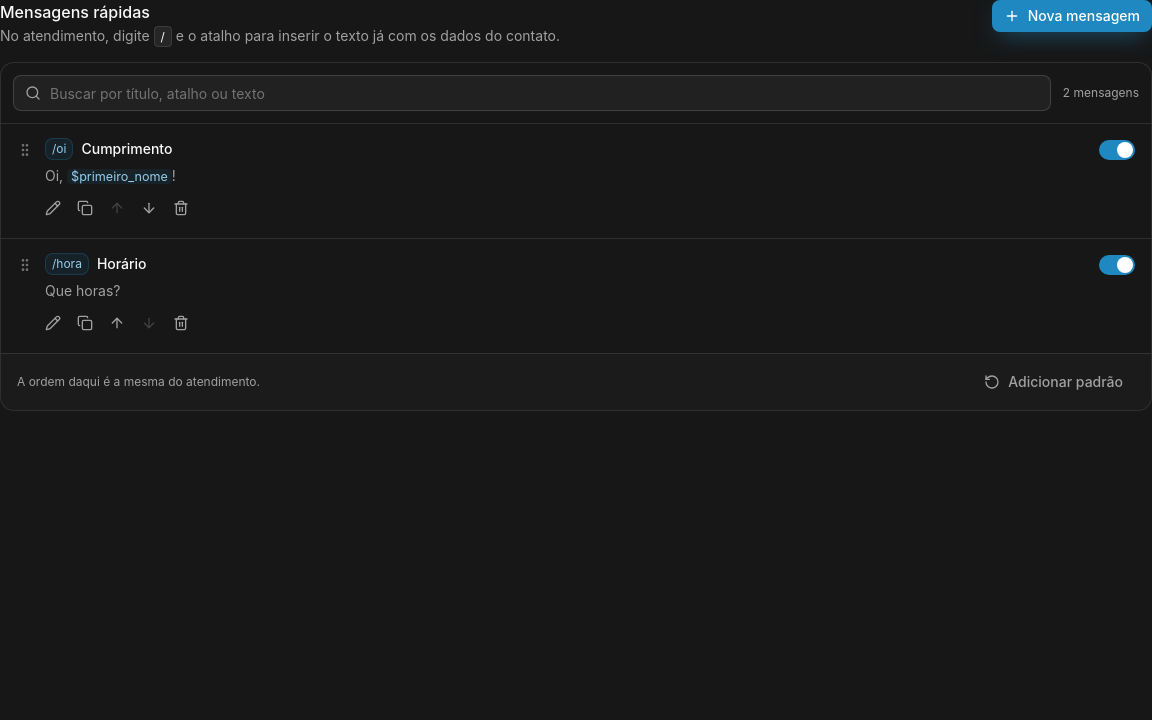
Test case: Mensagens rápidas › cria: sugere o atalho, mostra a prévia e salva
The image size is (1152, 720).
Click the button "Nova mensagem": (1072, 16) x1=992 y1=0 x2=1151 y2=32
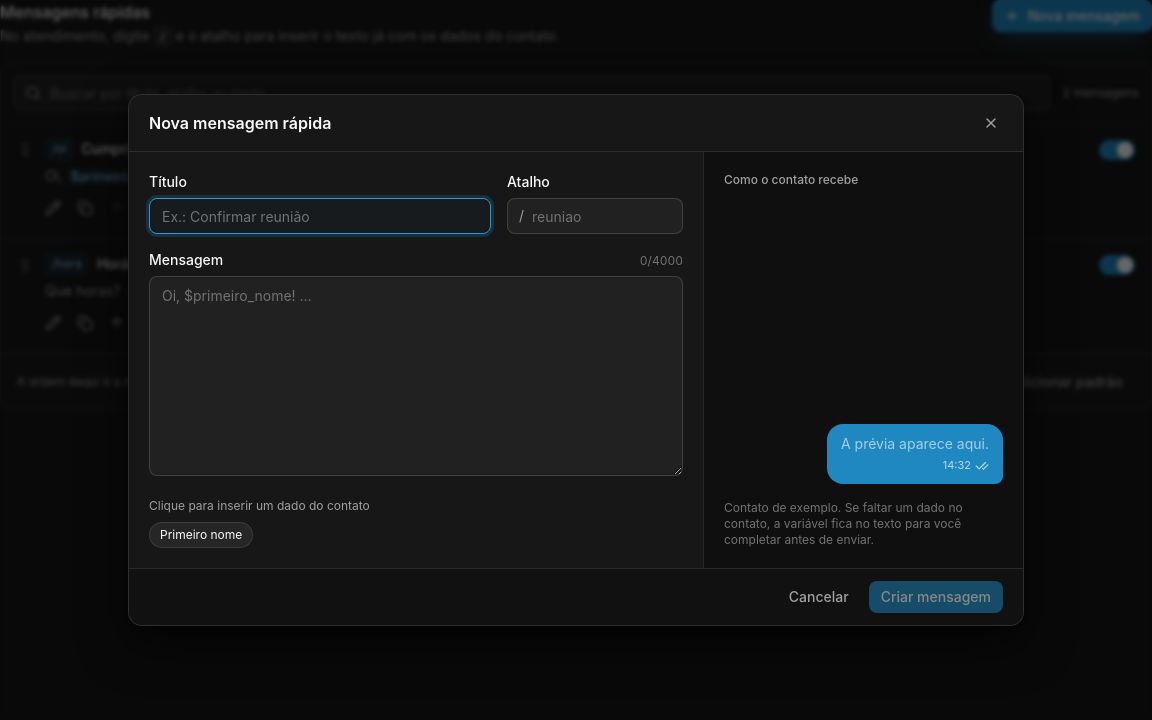
In the field labelled "Título": (320, 216) x1=149 y1=198 x2=491 y2=234, type "Confirmar Reunião"
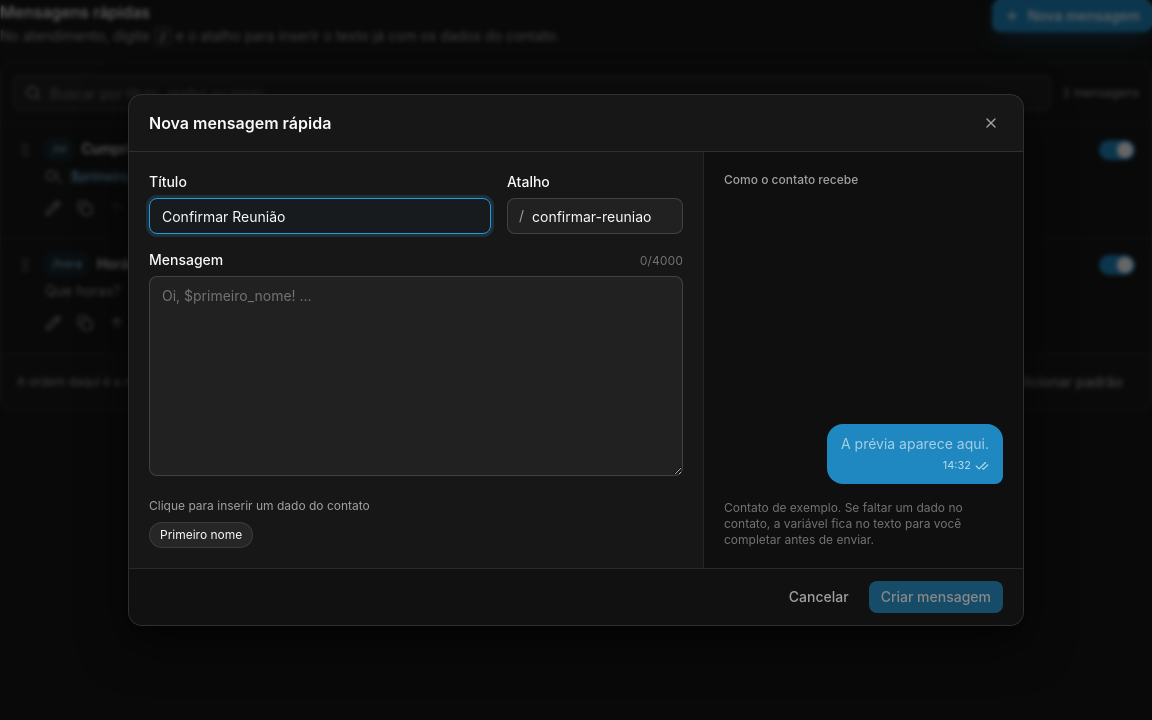
In the text box labelled "Mensagem": (416, 376) x1=149 y1=276 x2=683 y2=476, type "*Oi*, $primeiro_nome"
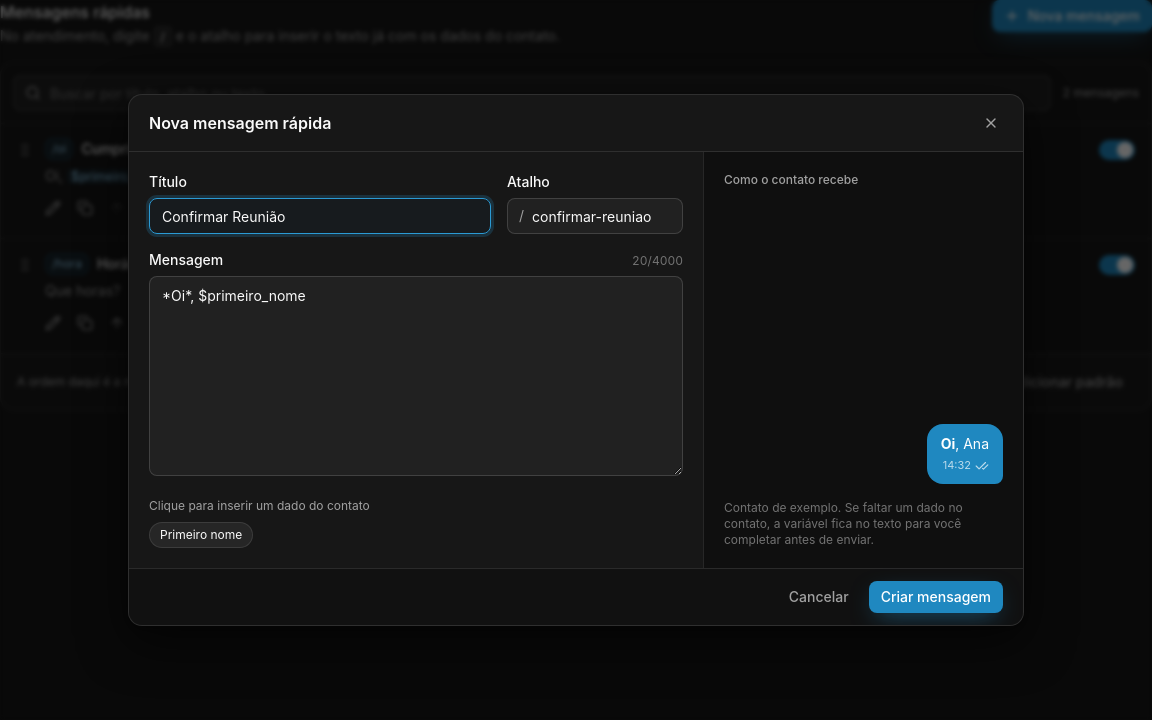
Click the button "Criar mensagem": (936, 597) x1=869 y1=581 x2=1003 y2=613
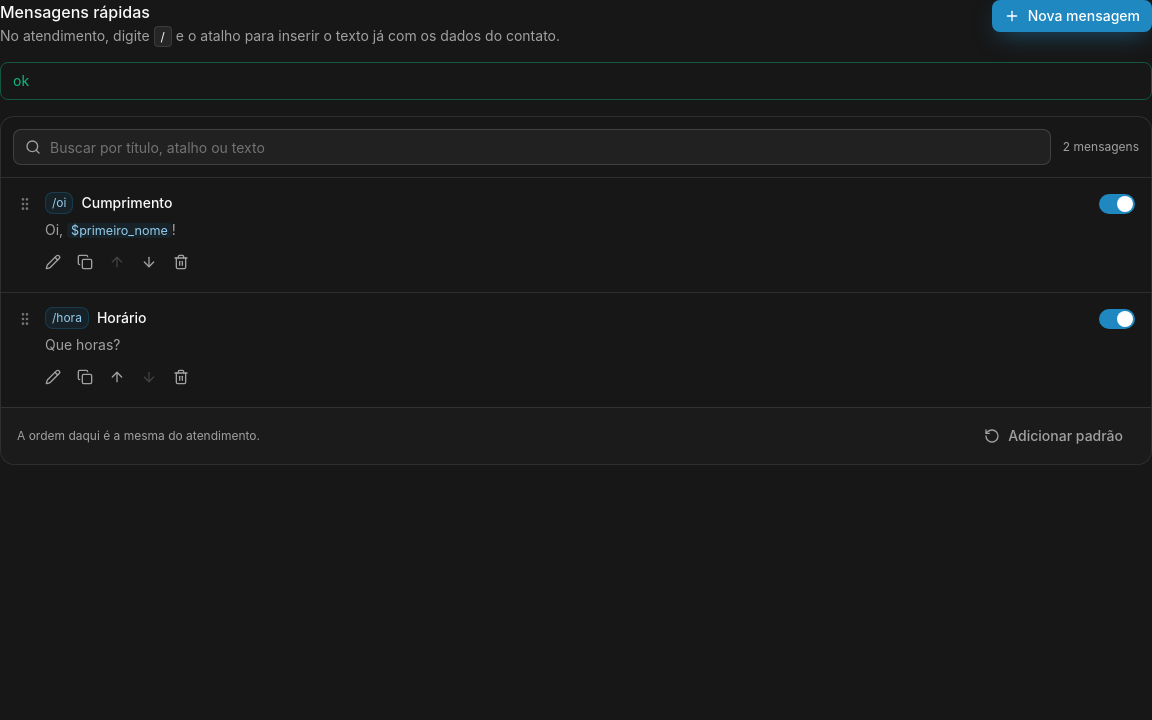
Result: the dialog is gone
